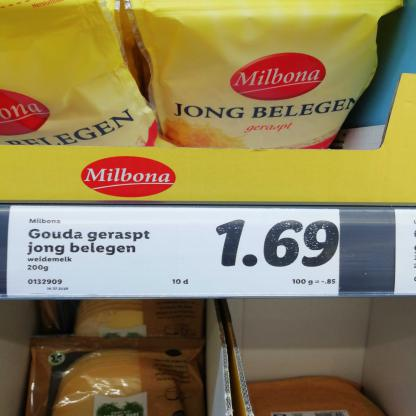prtg: (7, 207, 341, 297)
